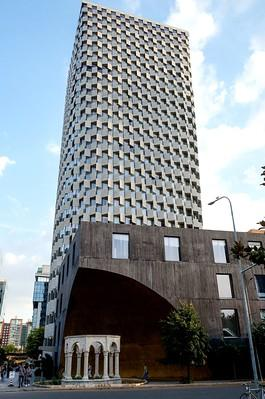building: (47, 2, 212, 381)
